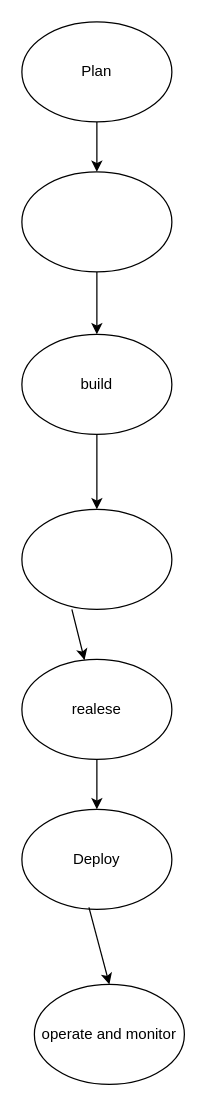
The diagram is 206 pixels wide and 1106 high, and some of its shapes have lost their labels. The shapes that lost their labels are listed below. From the top down, each one's box as (x1, y1, x2, y2) in pixels, then its label:
(21, 171, 172, 272): develop
(21, 508, 172, 609): test
